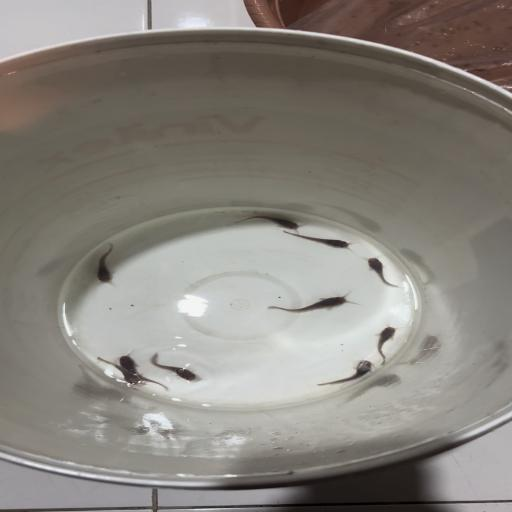lele: (266, 288, 361, 317), (273, 231, 362, 253), (119, 351, 168, 390), (315, 358, 374, 390), (355, 255, 408, 290), (224, 212, 306, 234), (147, 353, 204, 381), (92, 356, 140, 387), (89, 242, 122, 286), (370, 324, 401, 365)
